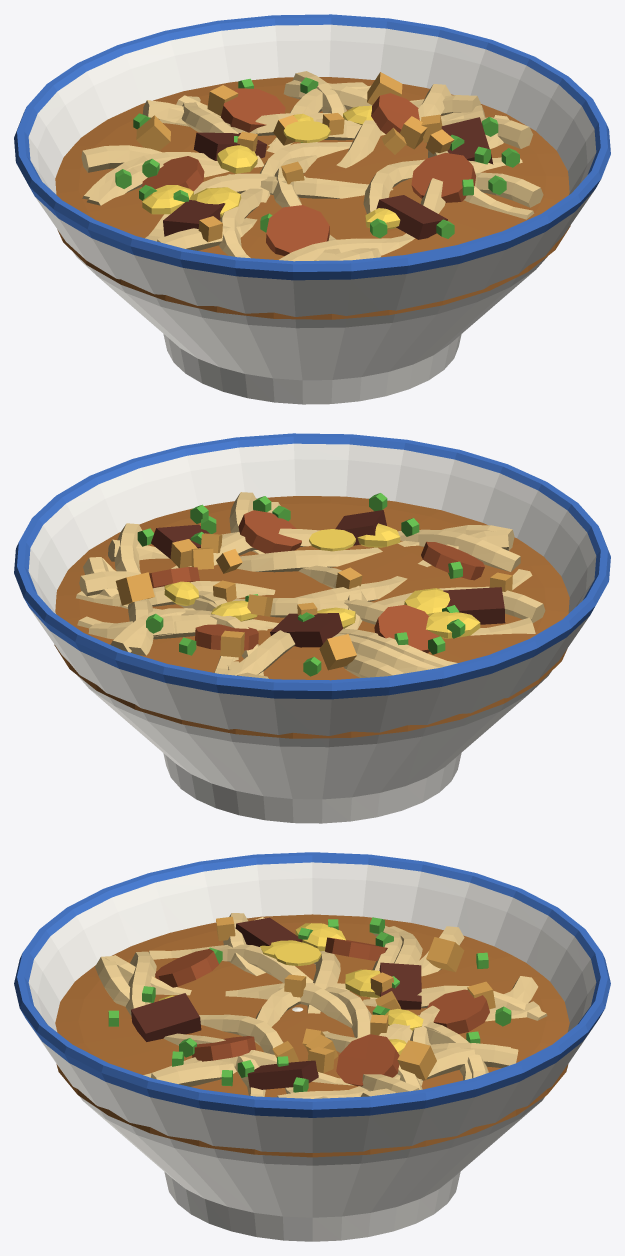
The model's file is lomi_bowl.obj.
The picture shows the model from 3 angles, top to bottom: view 1: azimuth 30°, elevation 25°; view 2: azimuth 150°, elevation 25°; view 3: azimuth 270°, elevation 25°; orthographic projection.
Visible parts, largest first — view 1: bowl_2, bowl_0, broth_3, bowl_rim_1, noodle_7, noodle_15, noodle_11, noodle_12, kikiam_24, noodle_16, kikiam_23, noodle_10 (+22 smaller); view 2: bowl_2, bowl_0, broth_3, bowl_rim_1, noodle_10, noodle_15, noodle_16, noodle_13, noodle_12, noodle_7, noodle_6, noodle_9 (+23 smaller); view 3: bowl_2, bowl_0, broth_3, bowl_rim_1, noodle_13, noodle_7, noodle_11, noodle_10, noodle_15, liver_28, kikiam_25, noodle_12 (+21 smaller).
Part boxes in pixels (x1,y1,x2,y2): bowl_2: (35,190,594,404); bowl_0: (28,24,596,194); broth_3: (55,77,570,319); bowl_rim_1: (14,14,610,280); noodle_7: (81,145,543,207); noodle_15: (157,84,451,250); noodle_11: (181,96,264,258); noodle_12: (279,157,522,261); kikiam_24: (266,205,329,255); noodle_16: (145,99,424,241); kikiam_23: (411,153,475,202); noodle_10: (326,115,509,260); bowl_2: (30,609,589,823); bowl_0: (28,443,596,613); broth_3: (54,496,569,738); bowl_rim_1: (14,433,610,699); noodle_10: (108,525,514,572); noodle_15: (79,571,545,622); noodle_16: (76,581,535,635); noodle_13: (110,529,508,652); noodle_12: (222,528,520,571); noodle_7: (229,492,404,677); noodle_6: (77,614,457,667); noodle_9: (88,615,438,673); bowl_2: (30,1025,594,1241); bowl_0: (28,862,596,1031); broth_3: (55,914,569,1157); bowl_rim_1: (14,852,610,1117); noodle_13: (105,955,518,1067); noodle_7: (151,926,464,1086); noodle_11: (149,944,547,1020); noodle_10: (95,956,327,1098); noodle_15: (223,913,419,1092); liver_28: (131,993,201,1041); kikiam_25: (336,1034,399,1086); noodle_12: (125,951,265,1096).
Bounding box in the file's own units: 2.04 × 0.83 × 2.04.
